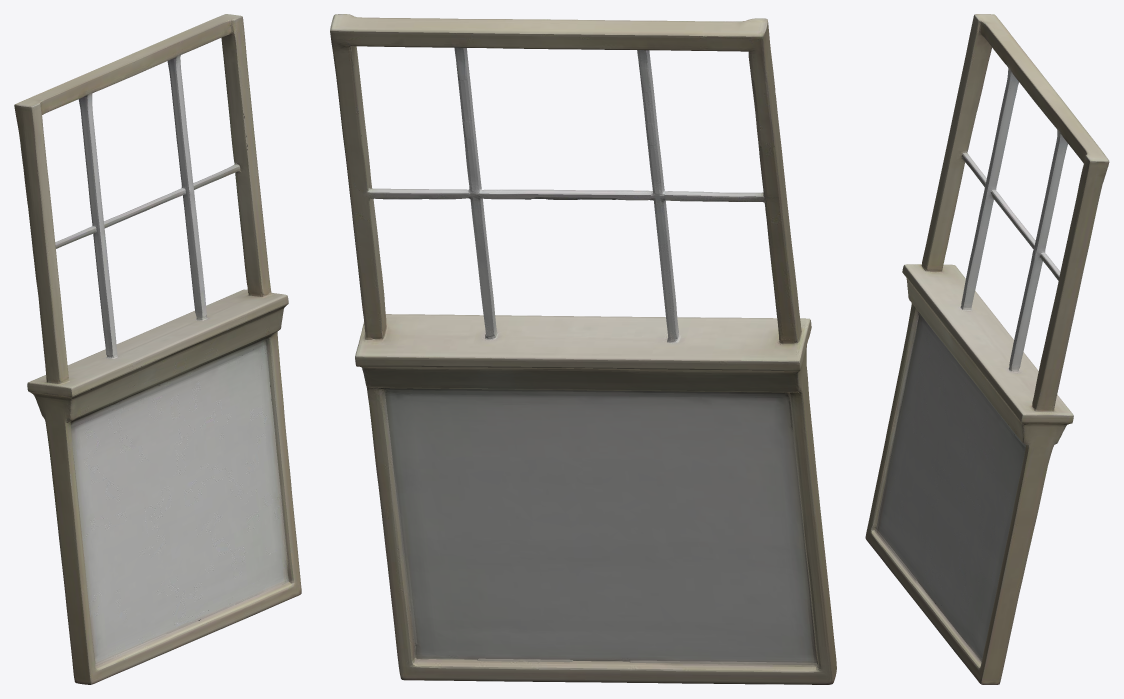
File: window_in_middle_000.glb
3 renders of one model, left to right at view 1: azimuth 30°, elevation 25°; view 2: azimuth 150°, elevation 25°; view 3: azimuth 270°, elevation 25°, orthographic. The views are drawn at different scales.
Visible parts, largest first — view 1: window_in_middle_000.obj; view 2: window_in_middle_000.obj; view 3: window_in_middle_000.obj.
Part boxes in pixels (bbox=[...]): window_in_middle_000.obj: bbox=[14, 14, 301, 684]; window_in_middle_000.obj: bbox=[330, 14, 836, 684]; window_in_middle_000.obj: bbox=[865, 14, 1109, 684].
Size of the model in its own units: 0.4676 by 0.8463 by 0.3439.
1 material, 1 textured.
